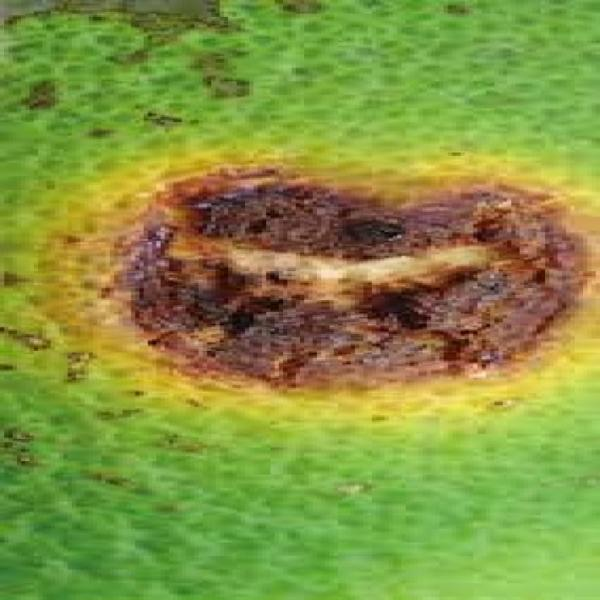Trips: (0, 0, 598, 599)
